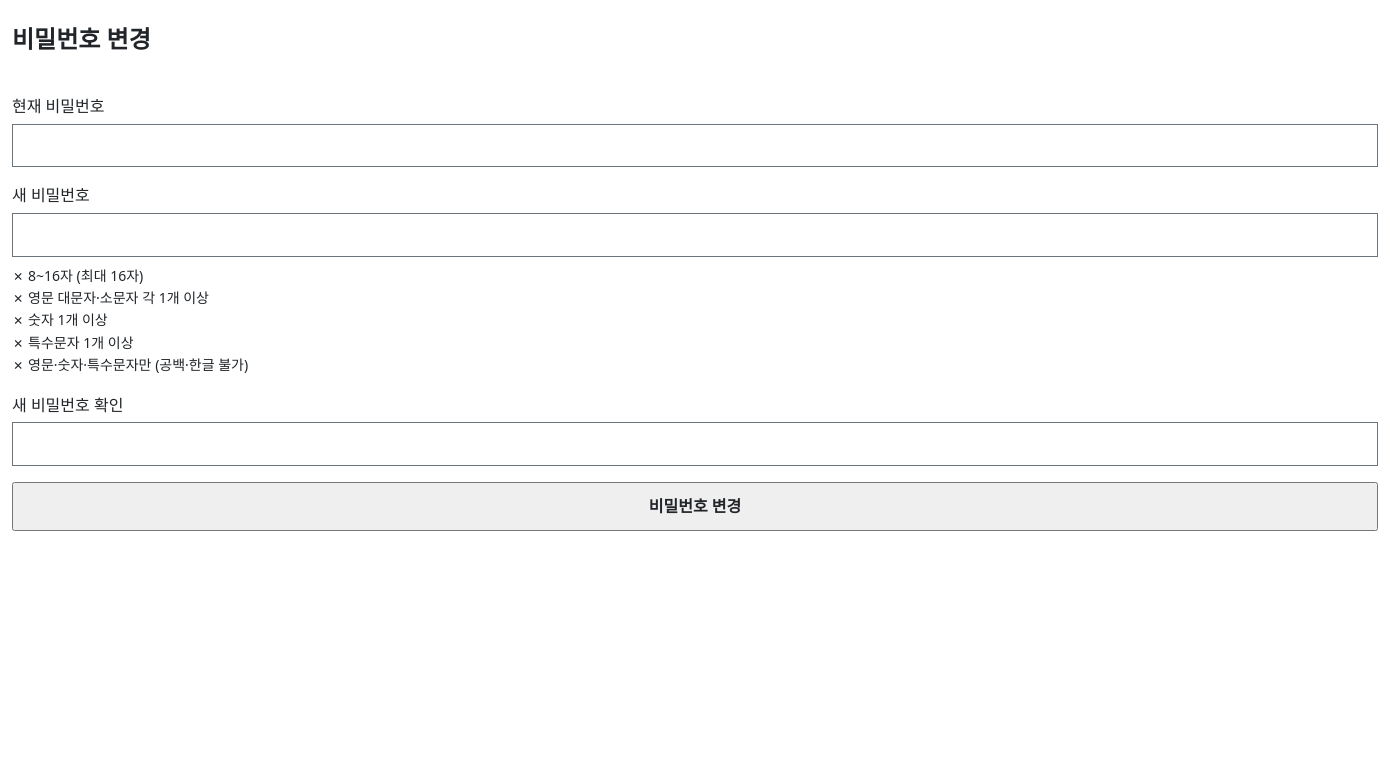
PasswordChangeForm › 현재 비밀번호가 틀리면 문구
Step 1. Type "Wrong#2026x" into the password field labelled "현재 비밀번호" → (695, 146), box [12,124,1378,167]
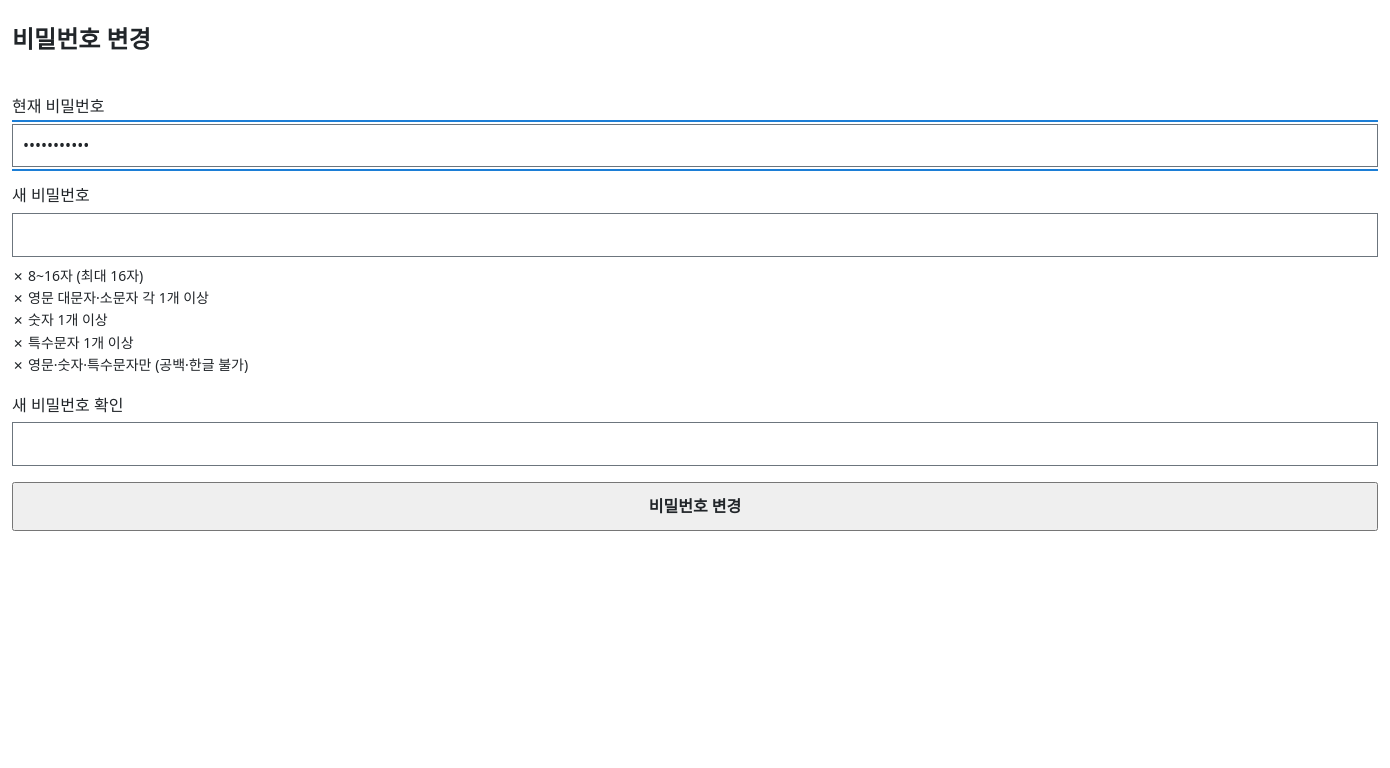
Step 2. Type "Fresh#2026b" into the password field labelled "새 비밀번호" → (695, 235), box [12,213,1378,257]
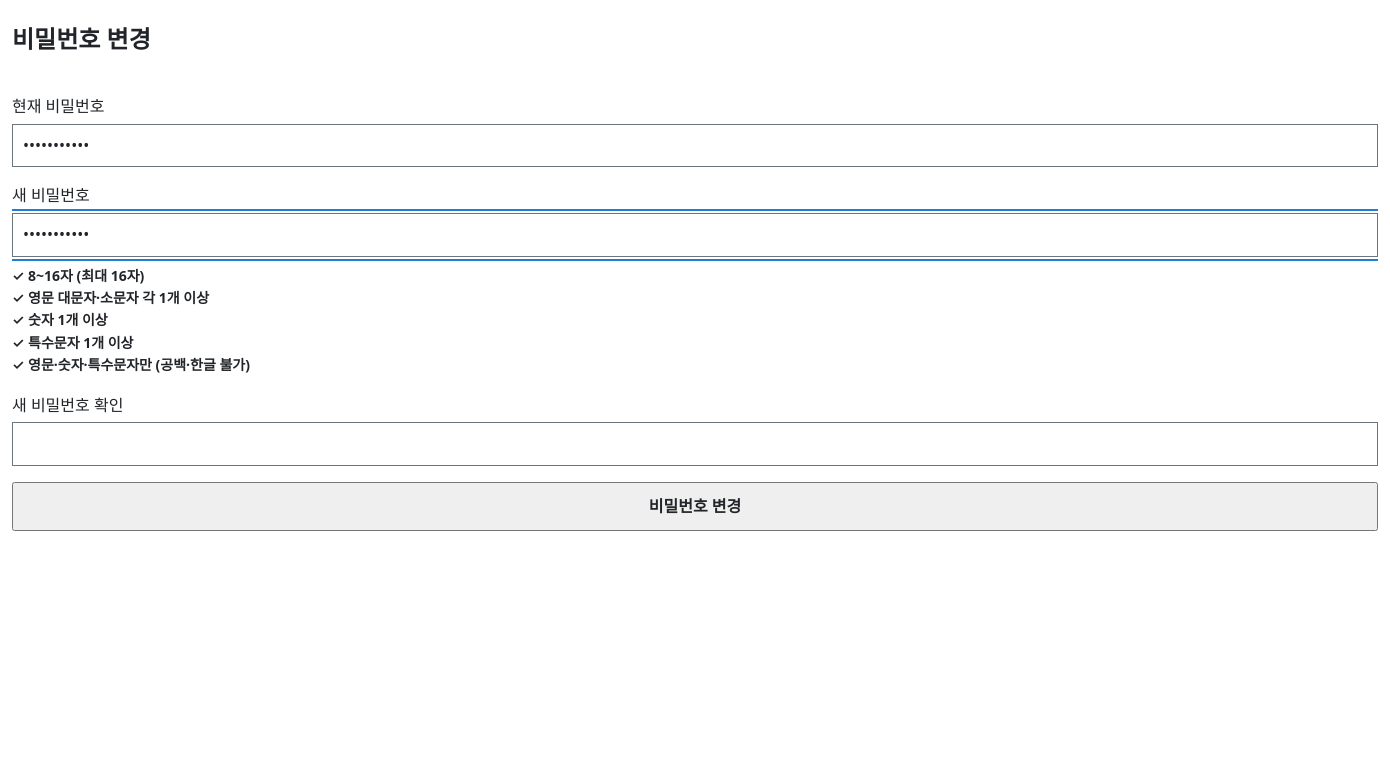
Step 3. Type "Fresh#2026b" into the password field labelled "새 비밀번호 확인" → (695, 444), box [12,422,1378,466]
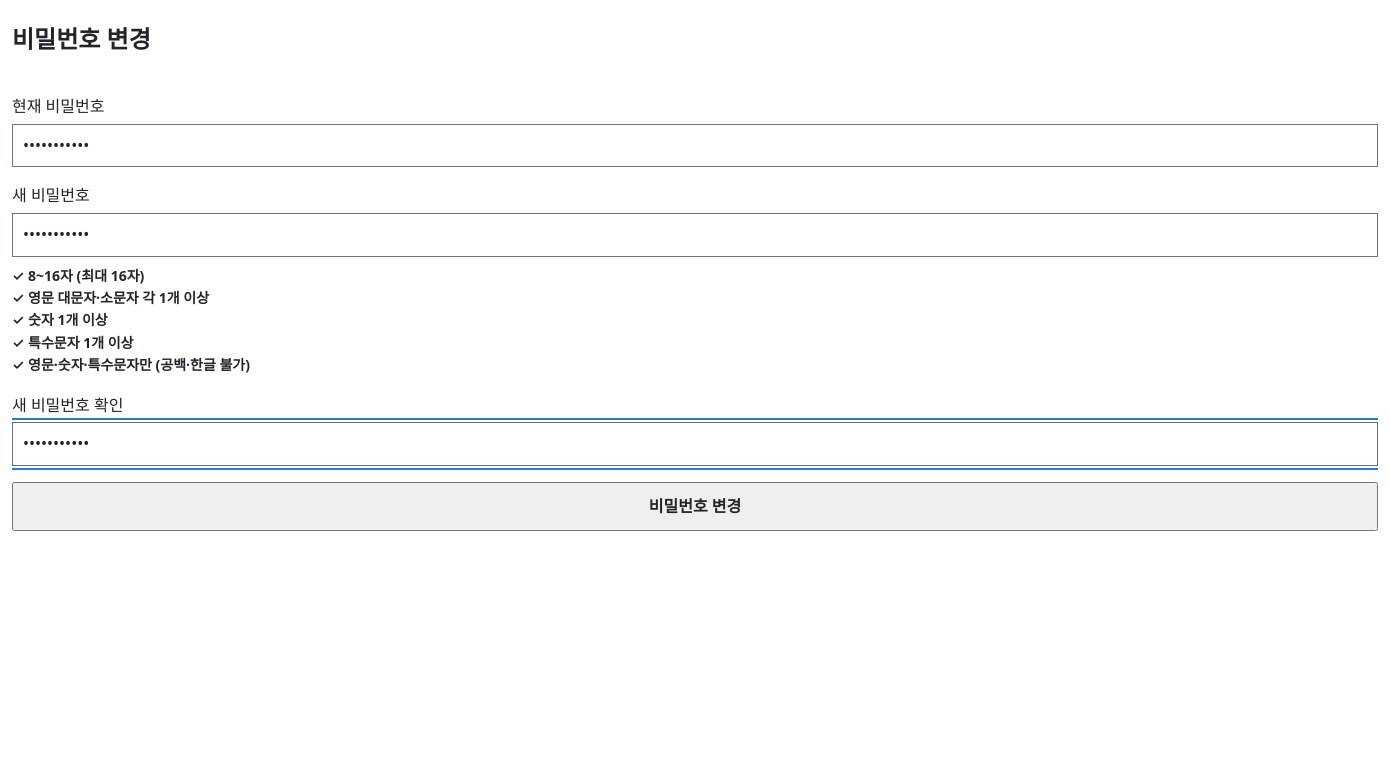
Step 4. Click the button "비밀번호 변경" → (695, 506), box [12,482,1378,531]
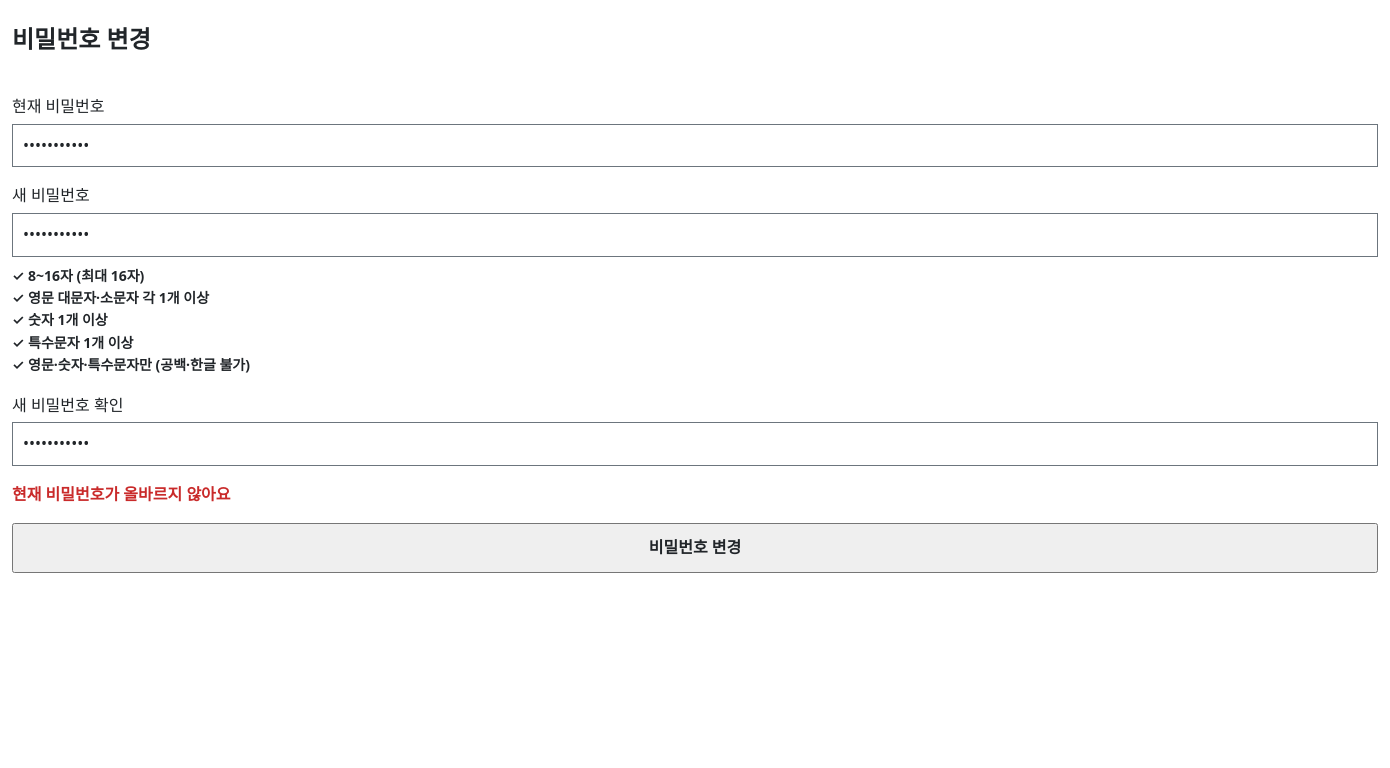
Now the message reads "현재 비밀번호가 올바르지 않아요", box [12,483,231,505]
